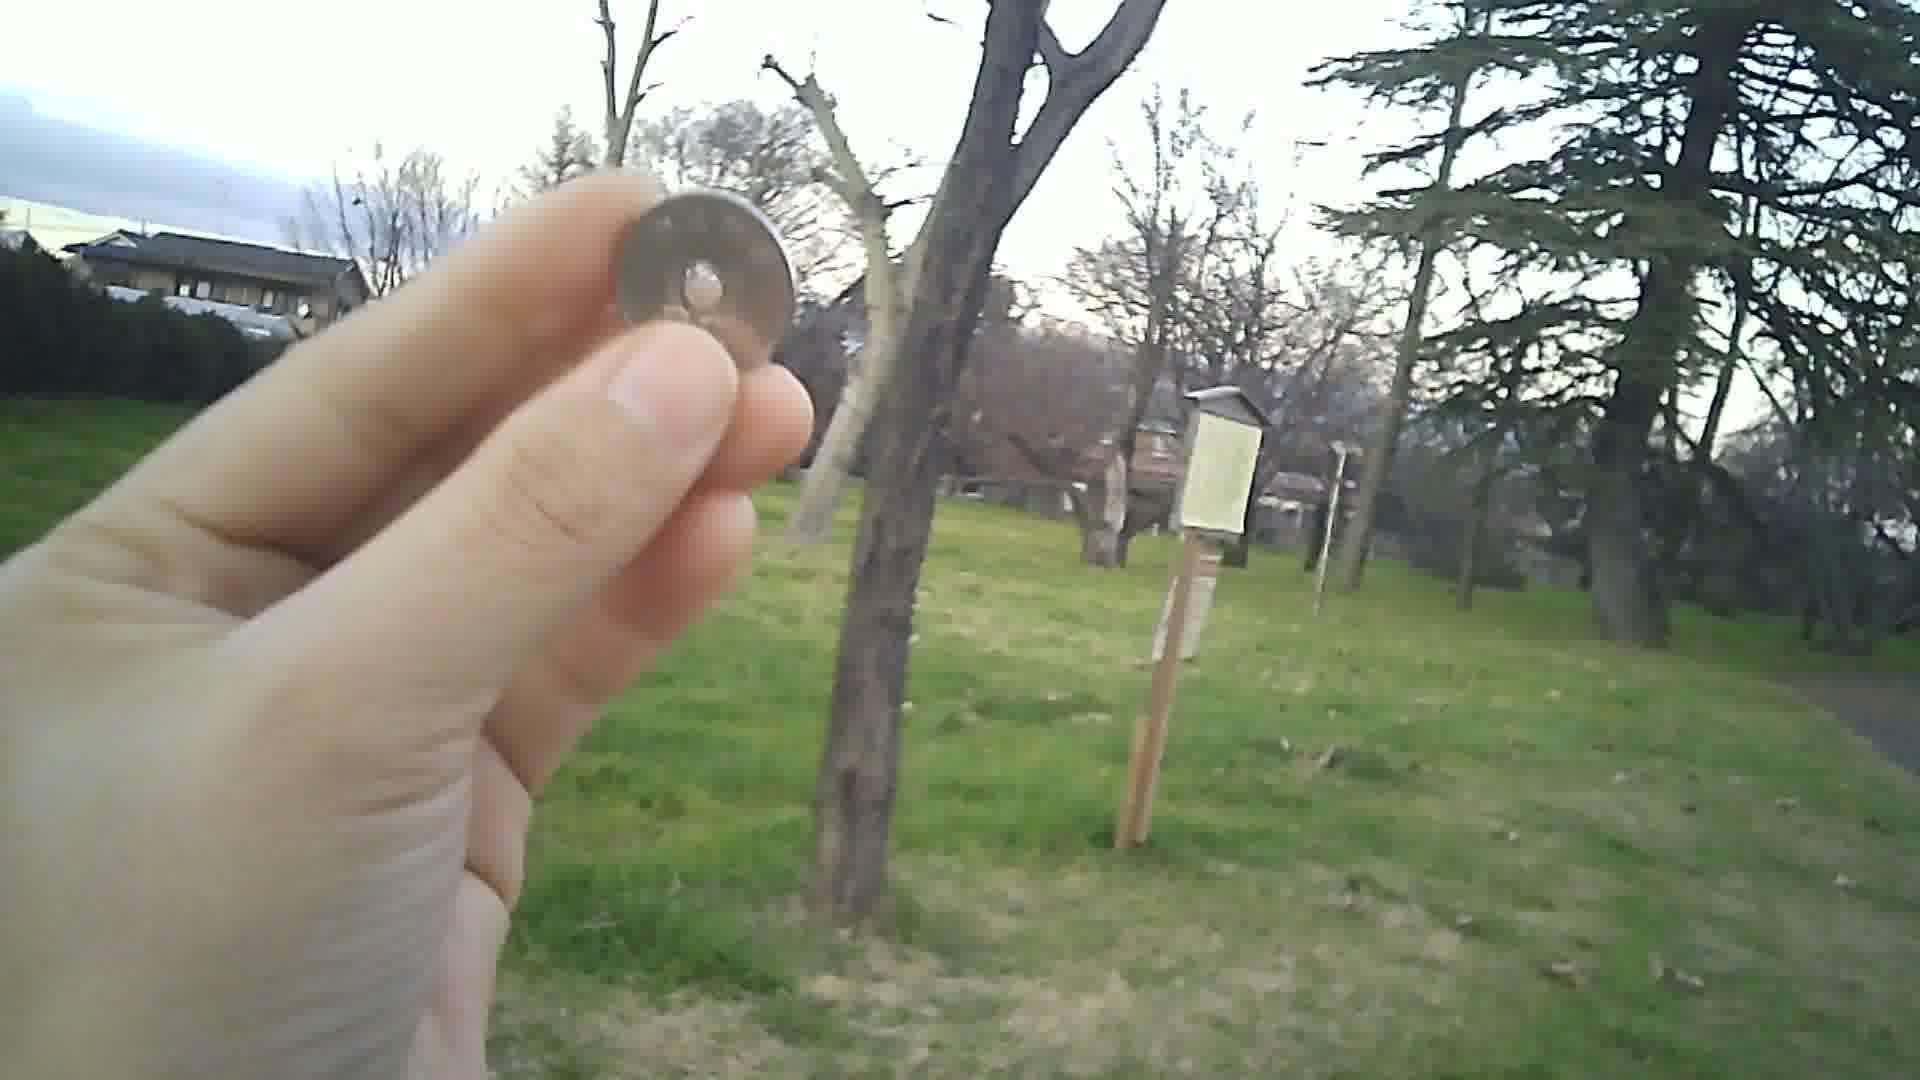50 Yen: (607, 190, 807, 380)
